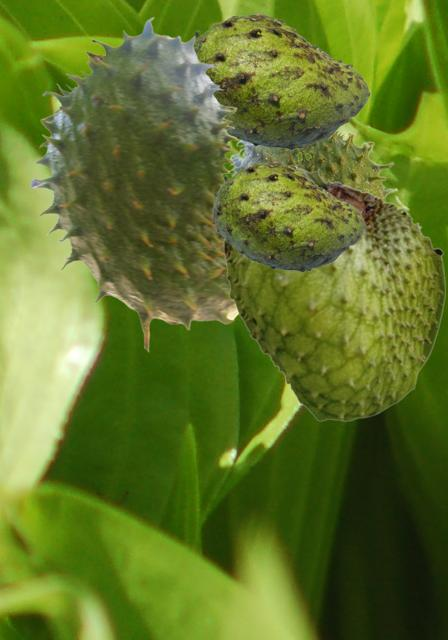guyabano: (30, 17, 240, 351), (223, 160, 445, 421), (194, 13, 369, 149), (211, 161, 365, 271), (224, 129, 409, 211)
